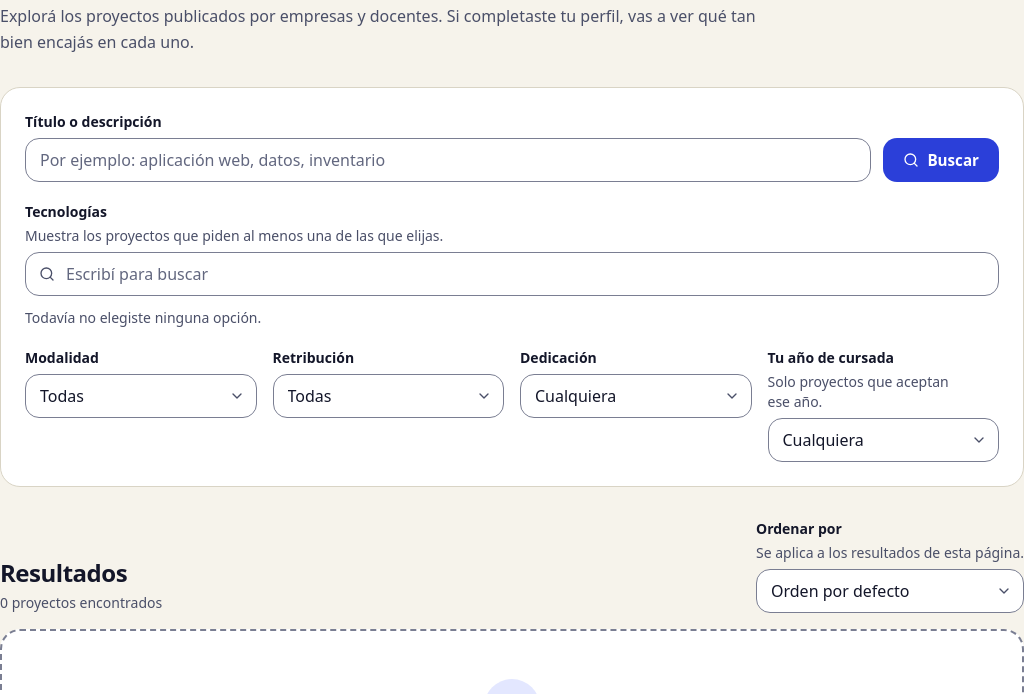
it: ProyectosPage › sin resultados y con filtros explica el motivo y permite limpiarlos
Select "Remoto" in the dropdown labelled "Modalidad" at (141, 396), box [25,374,256,418]
(page scrolled)
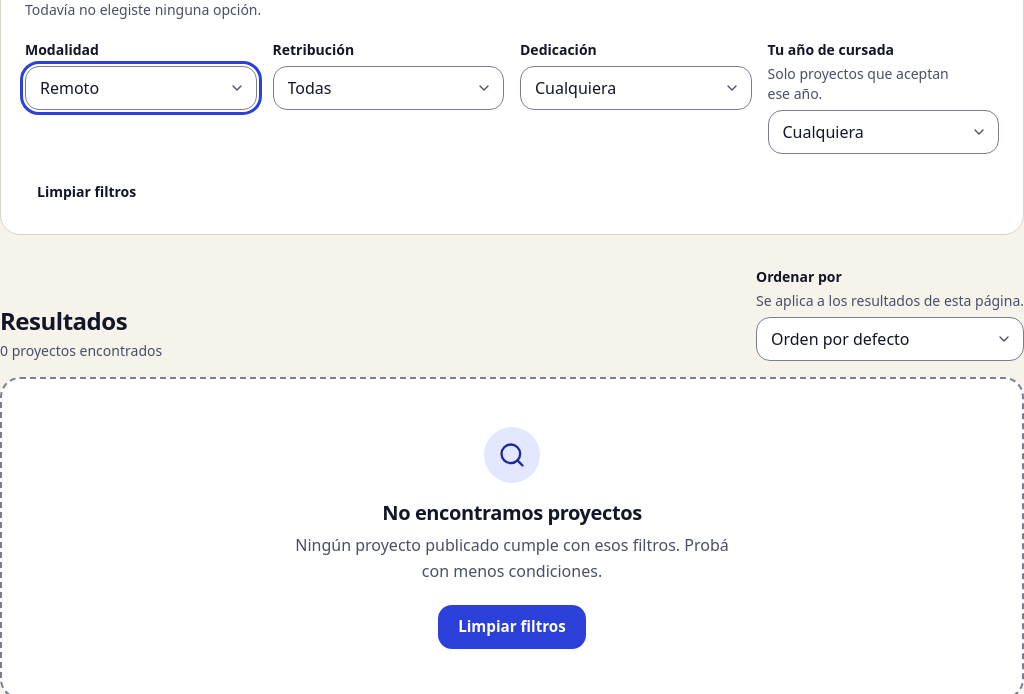
Expected: the text "Ningún proyecto publicado cumple con esos filtros" is shown, [295,534,729,582]
Click the button "Limpiar filtros" below "No encontramos proyectos" at (512, 627), box [438,605,586,649]
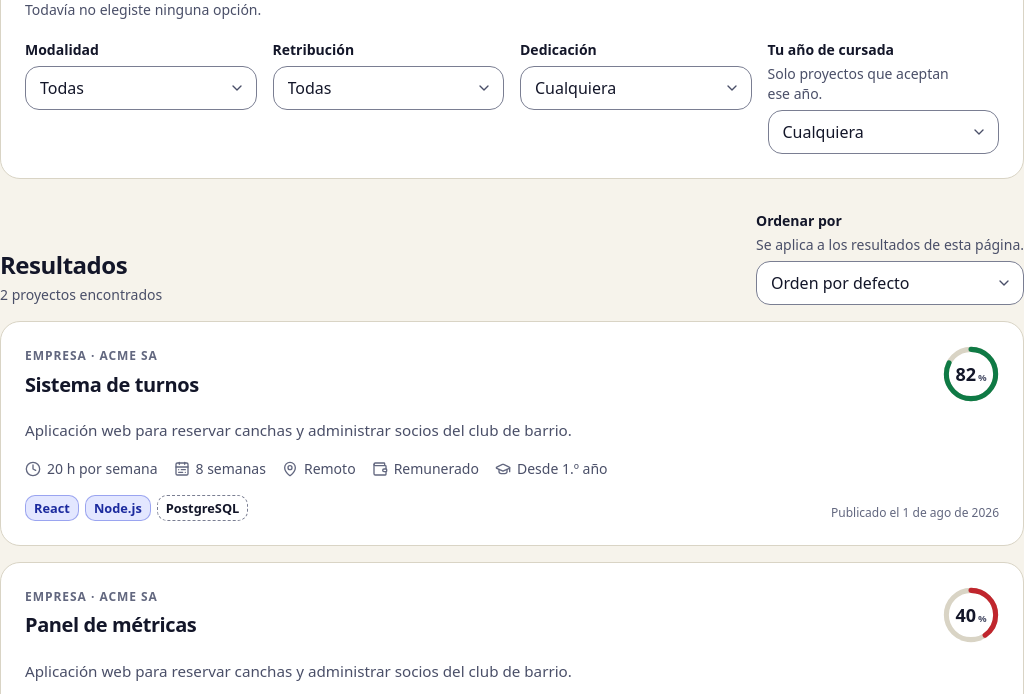
Expected: the link "Sistema de turnos" is shown, [25,371,199,398]
